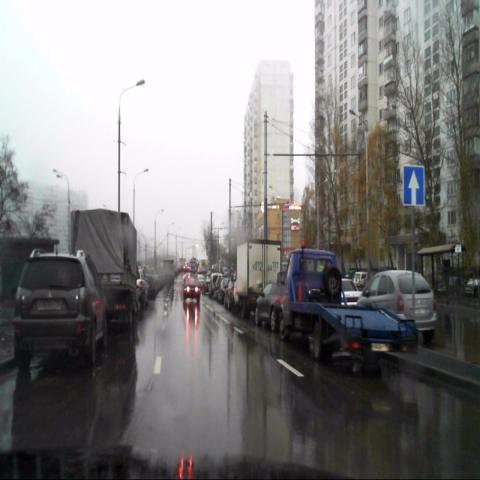5_5: (402, 166, 425, 207)
